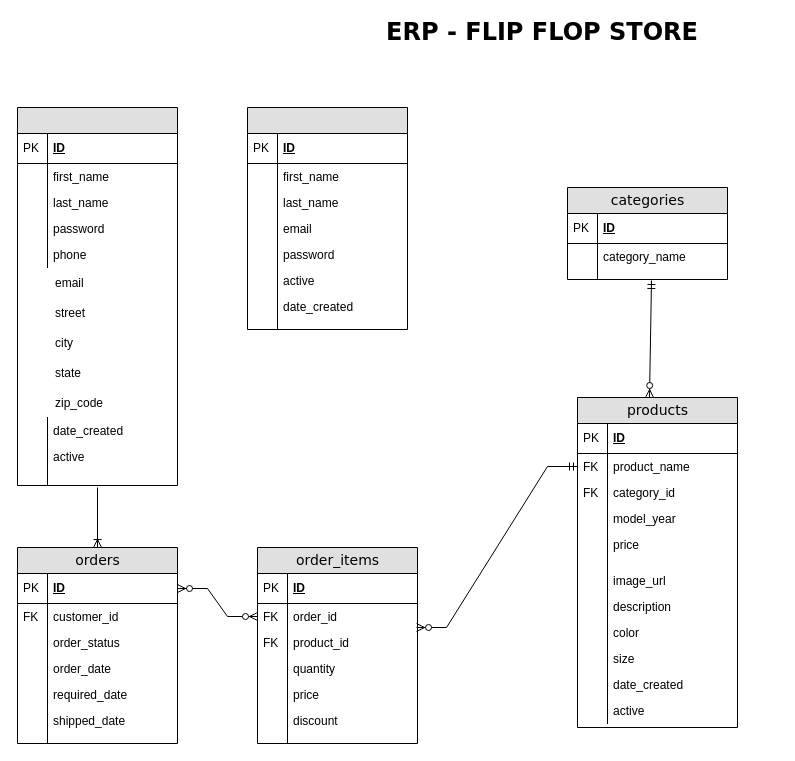
Image size: 795x761. Some labels were removed from this diagram. The shapes that lost their labels are listed below. From the top down, each one's box as (x1, y1, x2, y2) in pixels, then its label:
(246, 106, 408, 330): admin
(16, 106, 178, 486): account
